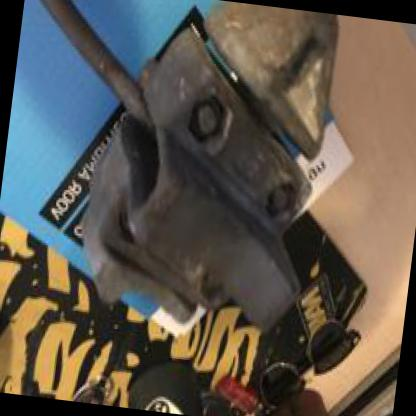Twistlock: (0, 0, 357, 358)
